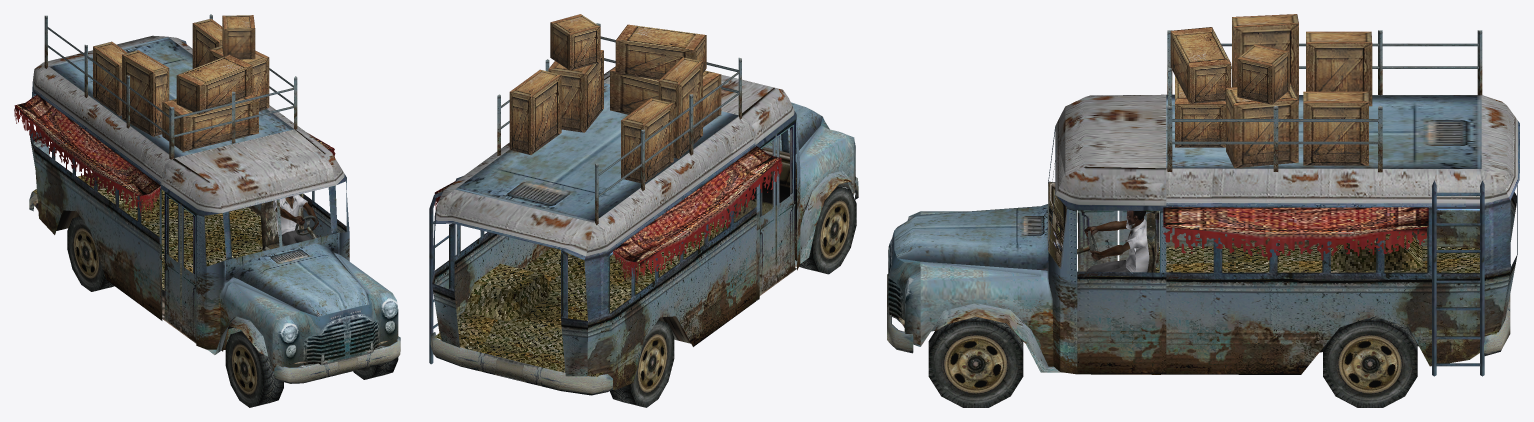
File: NBus3.glb
The picture shows the model from 3 angles, left to right: view 1: azimuth 30°, elevation 25°; view 2: azimuth 150°, elevation 25°; view 3: azimuth 270°, elevation 25°; orthographic projection. The views are drawn at different scales.
Visible parts, largest first — view 1: _NBus3; view 2: _NBus3; view 3: _NBus3.
Boxes of the visible parts, box(x1,y1,x2,y2) form: _NBus3: box(14, 14, 400, 407); _NBus3: box(429, 14, 858, 407); _NBus3: box(887, 14, 1519, 407).
Bounding box in the file's own units: 3.63 × 4.78 × 8.12.
Materials: 6 (6 with a texture image).
